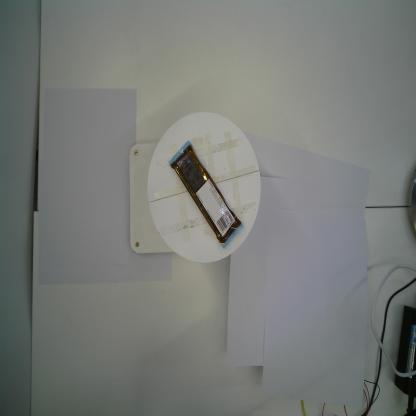Chocolate: (168, 140, 243, 250)
